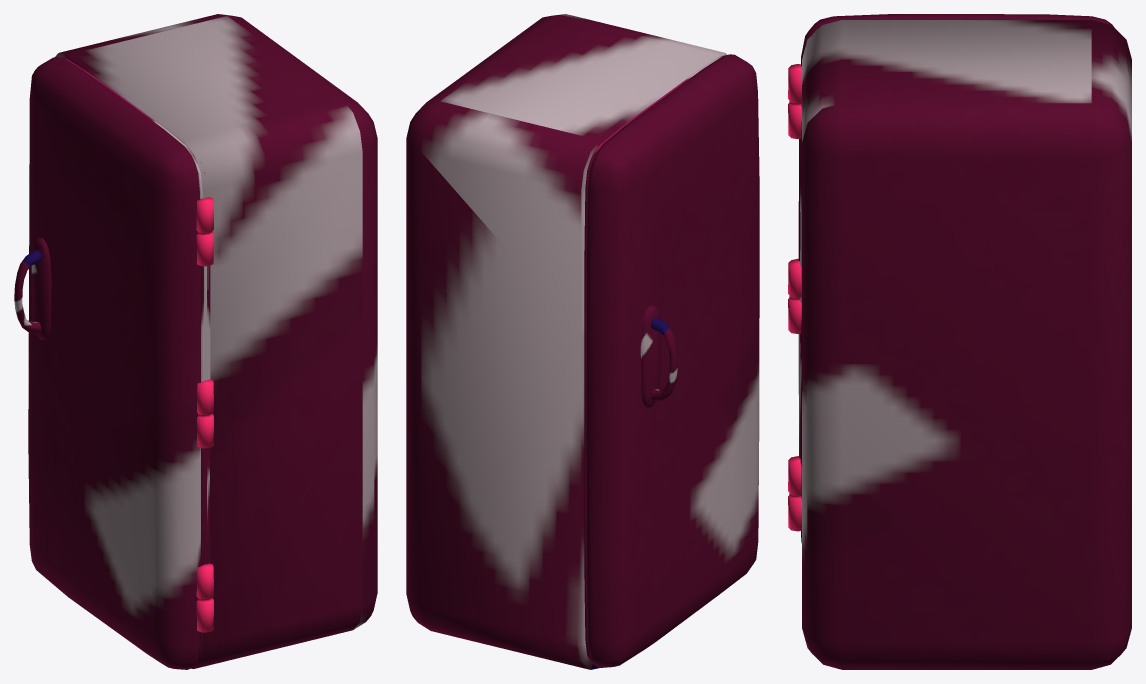
File: Furniture_Fridge_Round.fbx
The picture shows the model from 3 angles, left to right: view 1: azimuth 30°, elevation 25°; view 2: azimuth 150°, elevation 25°; view 3: azimuth 270°, elevation 25°; orthographic projection. The views are drawn at different scales.
Parts seen in each view (by area): view 1: Fridge; view 2: Fridge; view 3: Fridge.
Part boxes in pixels (x1=…): Fridge: x1=14, y1=14, x2=377, y2=669; Fridge: x1=406, y1=14, x2=759, y2=669; Fridge: x1=788, y1=14, x2=1131, y2=669.
Size of the model in its own units: 80.46 by 161 by 88.6.
